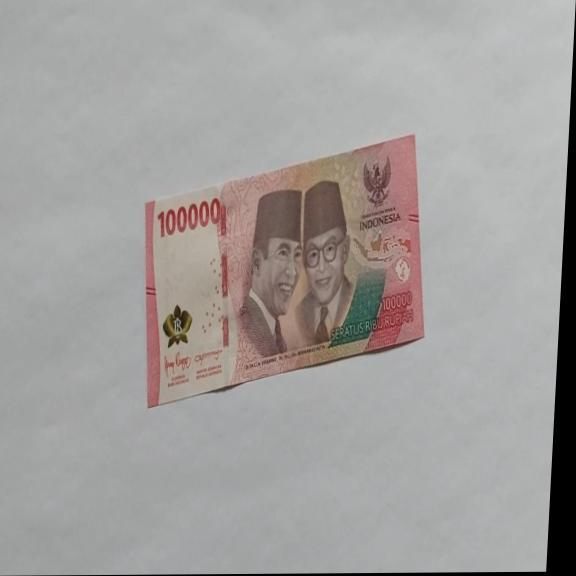Kertas: (134, 132, 435, 408), (155, 196, 222, 238)
